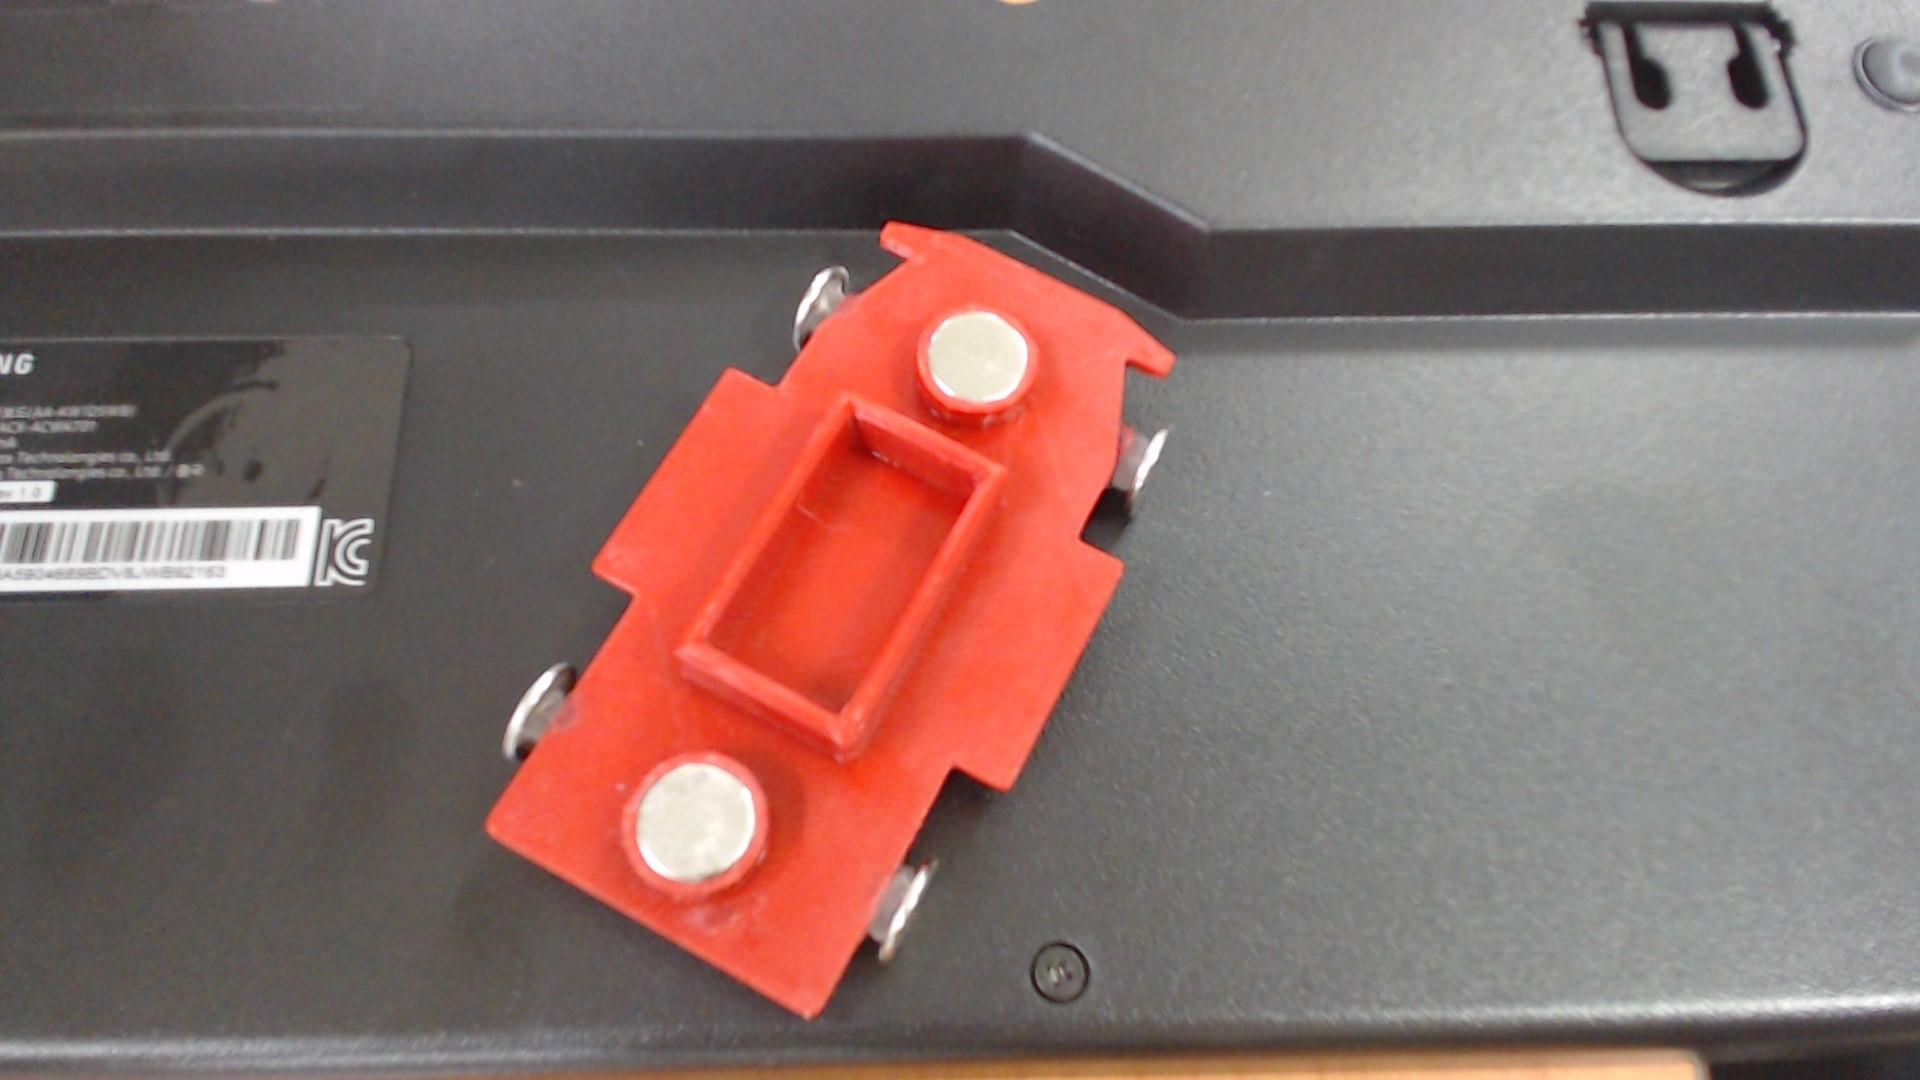lower_ok: (655, 367, 1051, 798)
